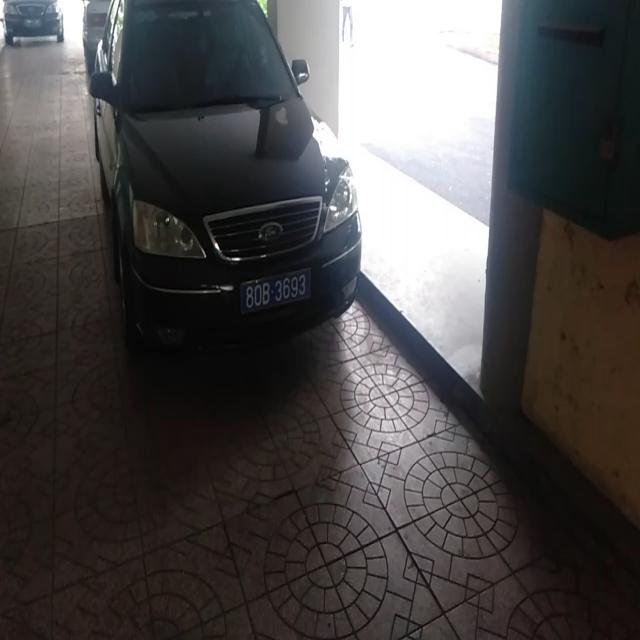bien_xanh: (240, 274, 310, 304)
